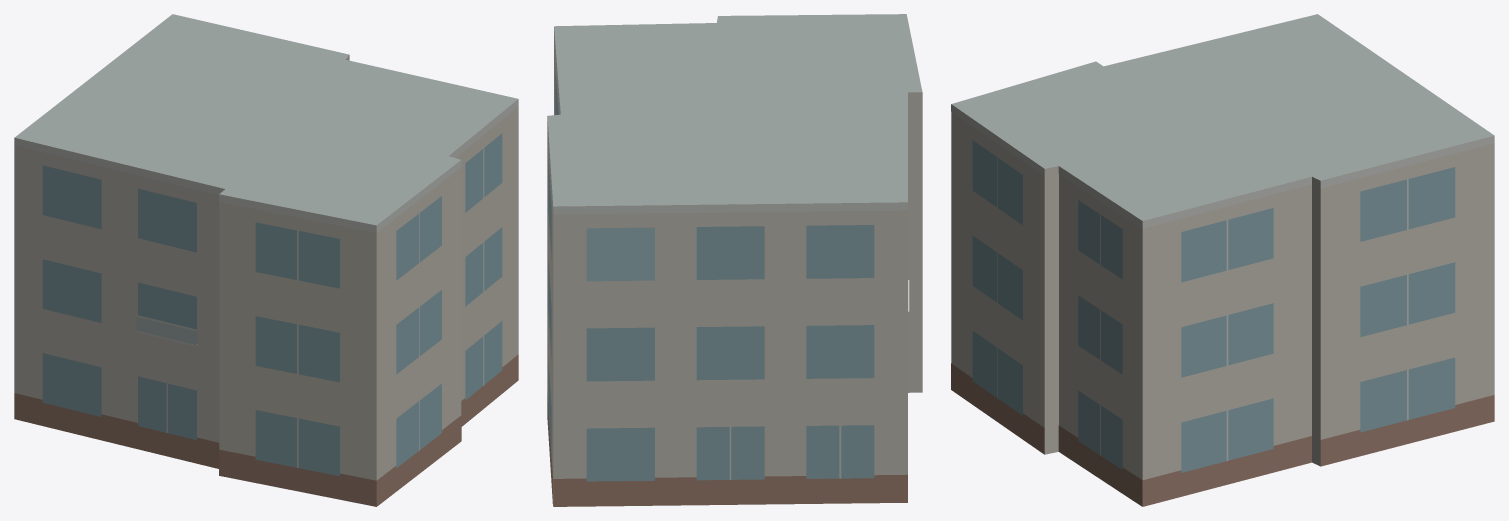
Rendered from survey-upis-32991596.glb.
3 views of the same model, side by side, from view 1: azimuth 30°, elevation 25°; view 2: azimuth 150°, elevation 25°; view 3: azimuth 270°, elevation 25° (orthographic). The views are drawn at different scales.
Visible parts, largest first — view 1: survey-upis-32991596.tmp; view 2: survey-upis-32991596.tmp; view 3: survey-upis-32991596.tmp.
Boxes of the visible parts, x1,y1,x2,y2 form: survey-upis-32991596.tmp: (14,14,518,506); survey-upis-32991596.tmp: (547,14,922,506); survey-upis-32991596.tmp: (951,14,1494,506).
Bounding box in the file's own units: 14.23 × 9.15 × 15.78.
